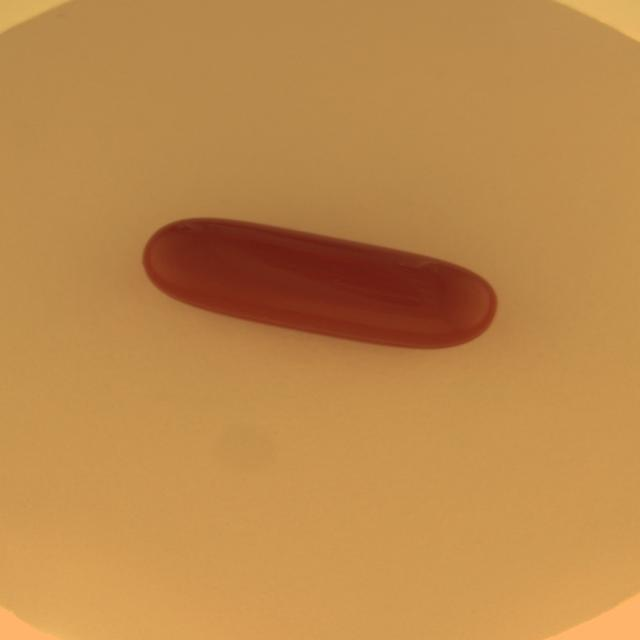Oval: (138, 213, 496, 351)
